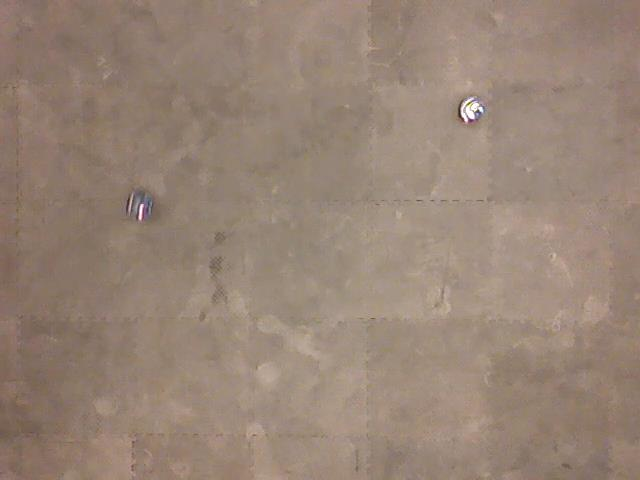Agent: (124, 188, 157, 225), (455, 94, 490, 126)
